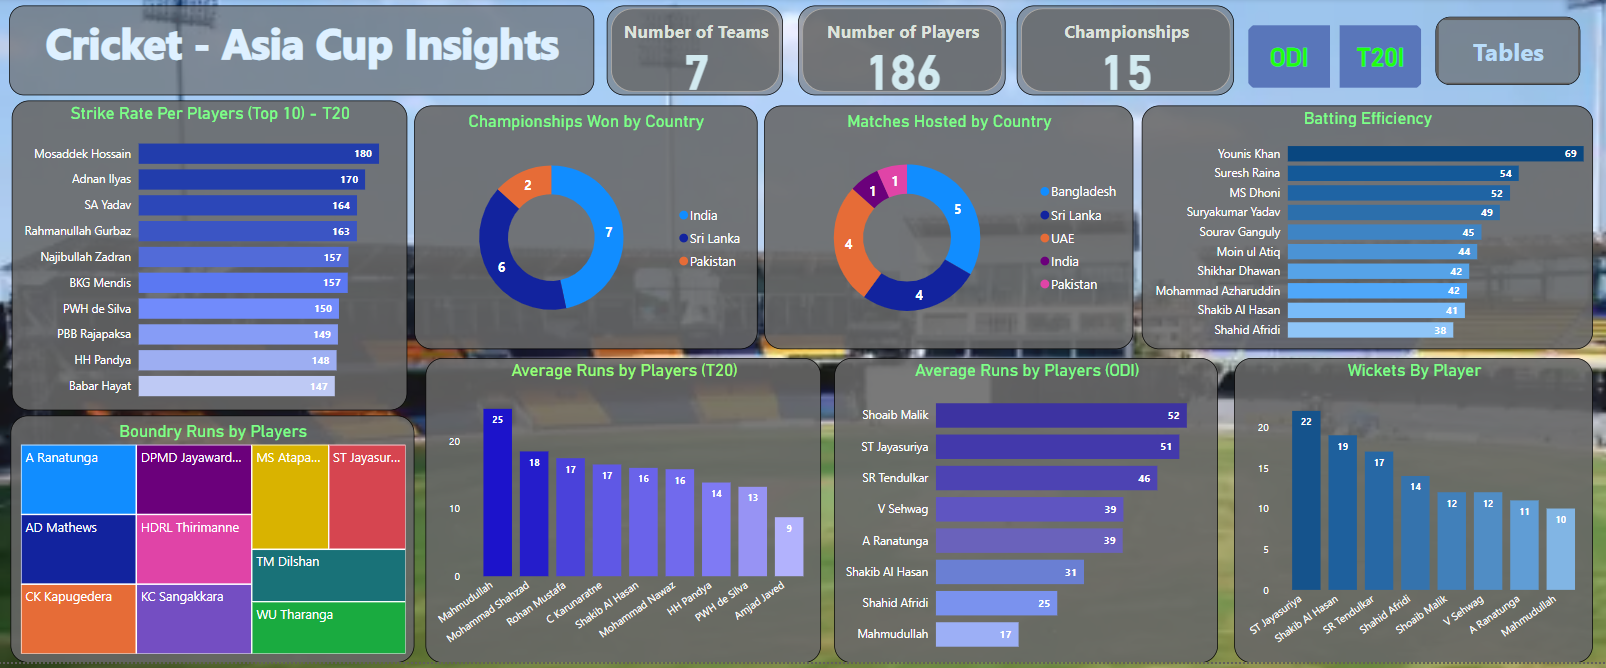

What the dashboard file says about the page in this screenshot:
{"tool":"powerbi","page":{"name":"Dashboards","canvas":[2000,763],"ordinal":0},"visuals":[{"type":"columnChart","title":"Wickets By Player","fields":{"Y":["ODI_ALL_ROUNDERS.Wicekts"],"Category":["ODI_ALL_ROUNDERS.Player_name"]},"box":[1420.5,413.7,419.2,350.7],"z":0},{"type":"advancedSlicerVisual","fields":{"Values":["asiacup.Format"]},"box":[1420,0,232,124],"z":1000},{"type":"clusteredBarChart","title":"Batting Efficiency","fields":{"Category":["asiacup.Player_Of_The_Match"],"Y":["asiacup.Batting Efficiency Index"]},"box":[1314,124,518,280],"z":2000},{"type":"donutChart","title":"Matches Hosted by Country","fields":{"Y":["champion2.Championship_ID"],"Category":["champion2.Host"]},"box":[880,124,424,280],"z":3000},{"type":"barChart","title":"Average Runs by Players (ODI)","fields":{"Category":["ODI_ALL_ROUNDERS.Player_name"],"Y":["ODI_ALL_ROUNDERS.Avg_Runs"]},"box":[960.3,413.7,441.1,350.7],"z":4000},{"type":"clusteredColumnChart","title":"Average Runs by Players (T20)","fields":{"Y":["T20_ALL_ROUNDERS.Avg_Runs_T20"],"Category":["T20_ALL_ROUNDERS.Player_name"]},"box":[491.8,413.7,454.8,350.7],"z":5000},{"type":"treemap","title":"Boundry Runs by Players","fields":{"Group":["KPI#1 VIsual.Row Labels"],"Values":["KPI#1.Total Runs"]},"box":[14,480,464,284],"z":6000},{"type":"clusteredBarChart","title":"Strike Rate Per Players (Top 10) - T20","fields":{"Category":["batsman_data_t20i.Player_Name_Btt20"],"Y":["batsman_data_t20i.Strike_Rate_Btt20"]},"box":[16,118,454,356],"z":7000},{"type":"donutChart","title":"Championships Won by Country","fields":{"Category":["champion2.Champion"],"Y":["champion2.Championship_ID"]},"box":[478,124,394,280],"z":8000},{"type":"textbox","box":[13.3,8.3,671.7,103.3],"z":9000},{"type":"cardVisual","fields":{"Data":["Player_Name.Player_ID"]},"box":[918.3,0,238.3,111.7],"z":10000},{"type":"cardVisual","fields":{"Data":["champion2.Championship_ID"]},"box":[1170,0,250,112],"z":11000},{"type":"cardVisual","fields":{"Data":["asiacup.Team"]},"box":[700,0,201.7,111.7],"z":12000},{"type":"actionButton","box":[1652,22,166,78],"z":13001}]}

Visuals, with their boxes on the page's 2000x763 design canvas (x1, y1, x2, y2). These are canvas units, not pixel positions in the 1606x668 screenshot, which may show the page scaled, cropped or inside an application window:
"Wickets By Player" columnChart: <bbox>1420, 414, 1840, 764</bbox>
advancedSlicerVisual - asiacup.Format: <bbox>1420, 0, 1652, 124</bbox>
"Batting Efficiency" clusteredBarChart: <bbox>1314, 124, 1832, 404</bbox>
"Matches Hosted by Country" donutChart: <bbox>880, 124, 1304, 404</bbox>
"Average Runs by Players (ODI)" barChart: <bbox>960, 414, 1401, 764</bbox>
"Average Runs by Players (T20)" clusteredColumnChart: <bbox>492, 414, 947, 764</bbox>
"Boundry Runs by Players" treemap: <bbox>14, 480, 478, 764</bbox>
"Strike Rate Per Players (Top 10) - T20" clusteredBarChart: <bbox>16, 118, 470, 474</bbox>
"Championships Won by Country" donutChart: <bbox>478, 124, 872, 404</bbox>
textbox: <bbox>13, 8, 685, 112</bbox>
cardVisual - Player_Name.Player_ID: <bbox>918, 0, 1157, 112</bbox>
cardVisual - champion2.Championship_ID: <bbox>1170, 0, 1420, 112</bbox>
cardVisual - asiacup.Team: <bbox>700, 0, 902, 112</bbox>
actionButton: <bbox>1652, 22, 1818, 100</bbox>
